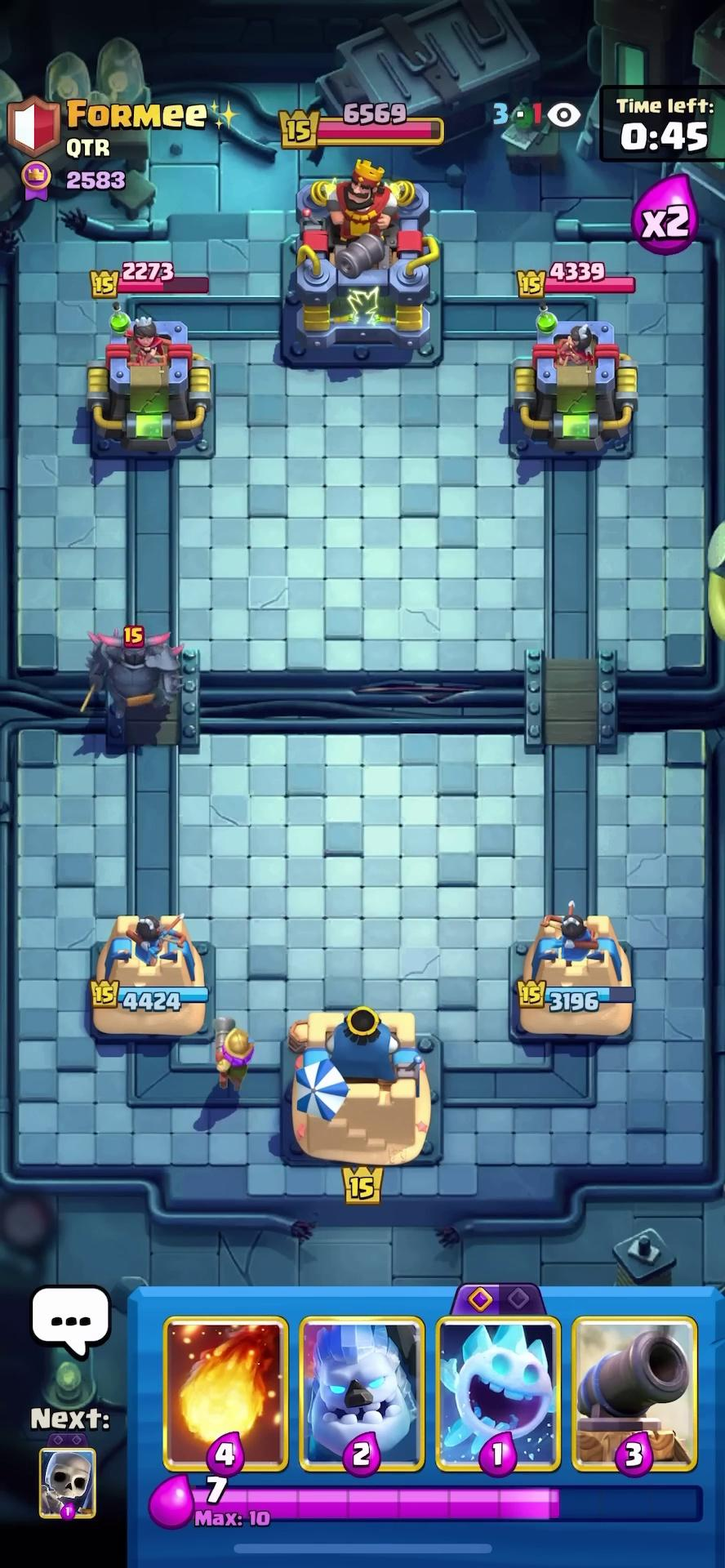musketeer: (202, 1011, 276, 1094)
